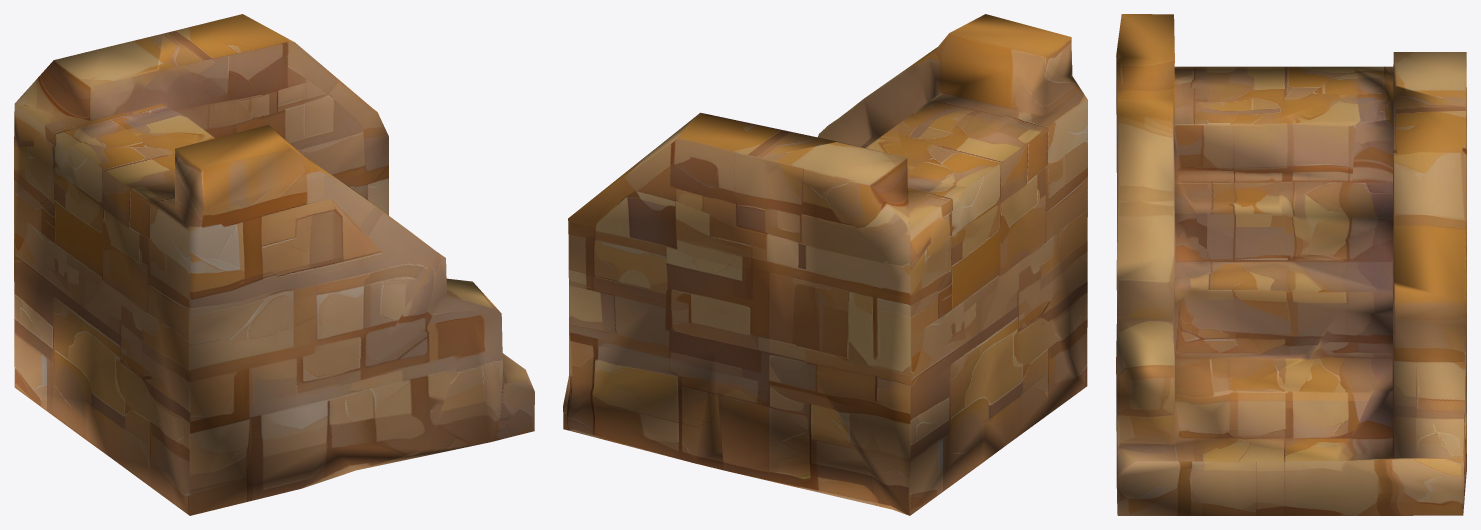
The model's file is stairs_stone.glb.
The picture shows the model from 3 angles, left to right: view 1: azimuth 30°, elevation 25°; view 2: azimuth 150°, elevation 25°; view 3: azimuth 270°, elevation 25°; orthographic projection.
Parts seen in each view (by area): view 1: tripo_node_c0f5b52f-0f23-49a7-a4d4-3253b781ce6a; view 2: tripo_node_c0f5b52f-0f23-49a7-a4d4-3253b781ce6a; view 3: tripo_node_c0f5b52f-0f23-49a7-a4d4-3253b781ce6a.
Boxes of the visible parts, x1=… form: tripo_node_c0f5b52f-0f23-49a7-a4d4-3253b781ce6a: x1=14, y1=14, x2=534, y2=515; tripo_node_c0f5b52f-0f23-49a7-a4d4-3253b781ce6a: x1=563, y1=14, x2=1087, y2=515; tripo_node_c0f5b52f-0f23-49a7-a4d4-3253b781ce6a: x1=1116, y1=14, x2=1466, y2=515.
Bounding box in the file's own units: 0.9993 × 0.9504 × 0.8827.
1 material, 1 textured.
